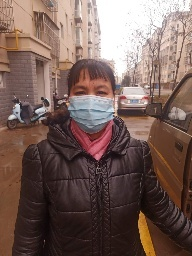correctlyWear: (66, 77, 116, 134)
